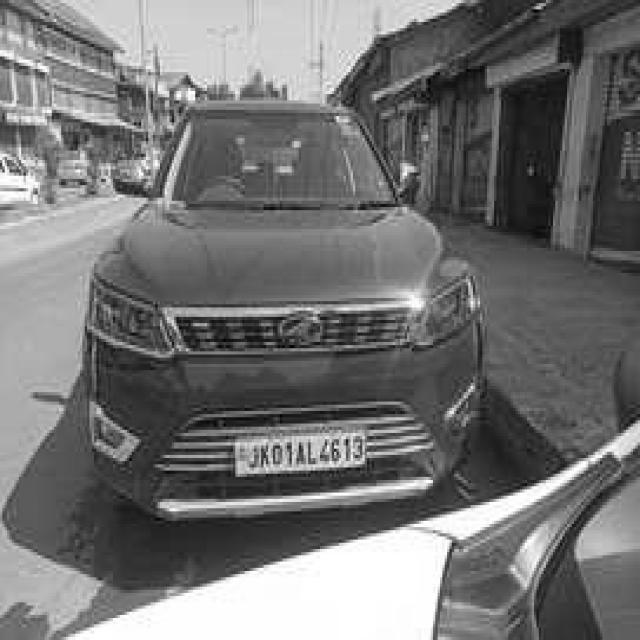car: (84, 97, 484, 518)
license-plate: (228, 430, 369, 480)
